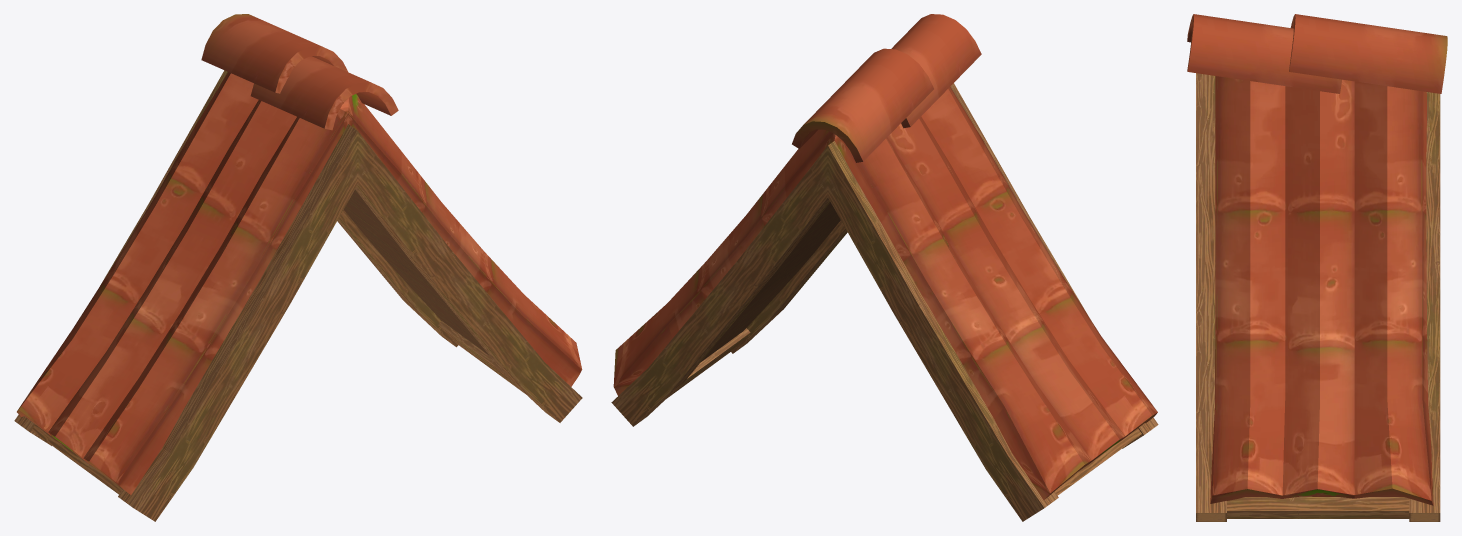
Rendered from Roof_RoundTile_2x1_Long.glb.
3 views of the same model, side by side, from view 1: azimuth 30°, elevation 25°; view 2: azimuth 150°, elevation 25°; view 3: azimuth 270°, elevation 25° (orthographic). The views are drawn at different scales.
Parts seen in each view (by area): view 1: Roof_RoundTile_2x1_Long; view 2: Roof_RoundTile_2x1_Long; view 3: Roof_RoundTile_2x1_Long.
Part boxes in pixels (left/top/right/bottom): Roof_RoundTile_2x1_Long: left=14, top=14, right=582, bottom=521; Roof_RoundTile_2x1_Long: left=611, top=14, right=1158, bottom=521; Roof_RoundTile_2x1_Long: left=1187, top=14, right=1447, bottom=521.
Bounding box in the file's own units: 4.35 × 3.33 × 1.95.
2 materials, 2 textured.
